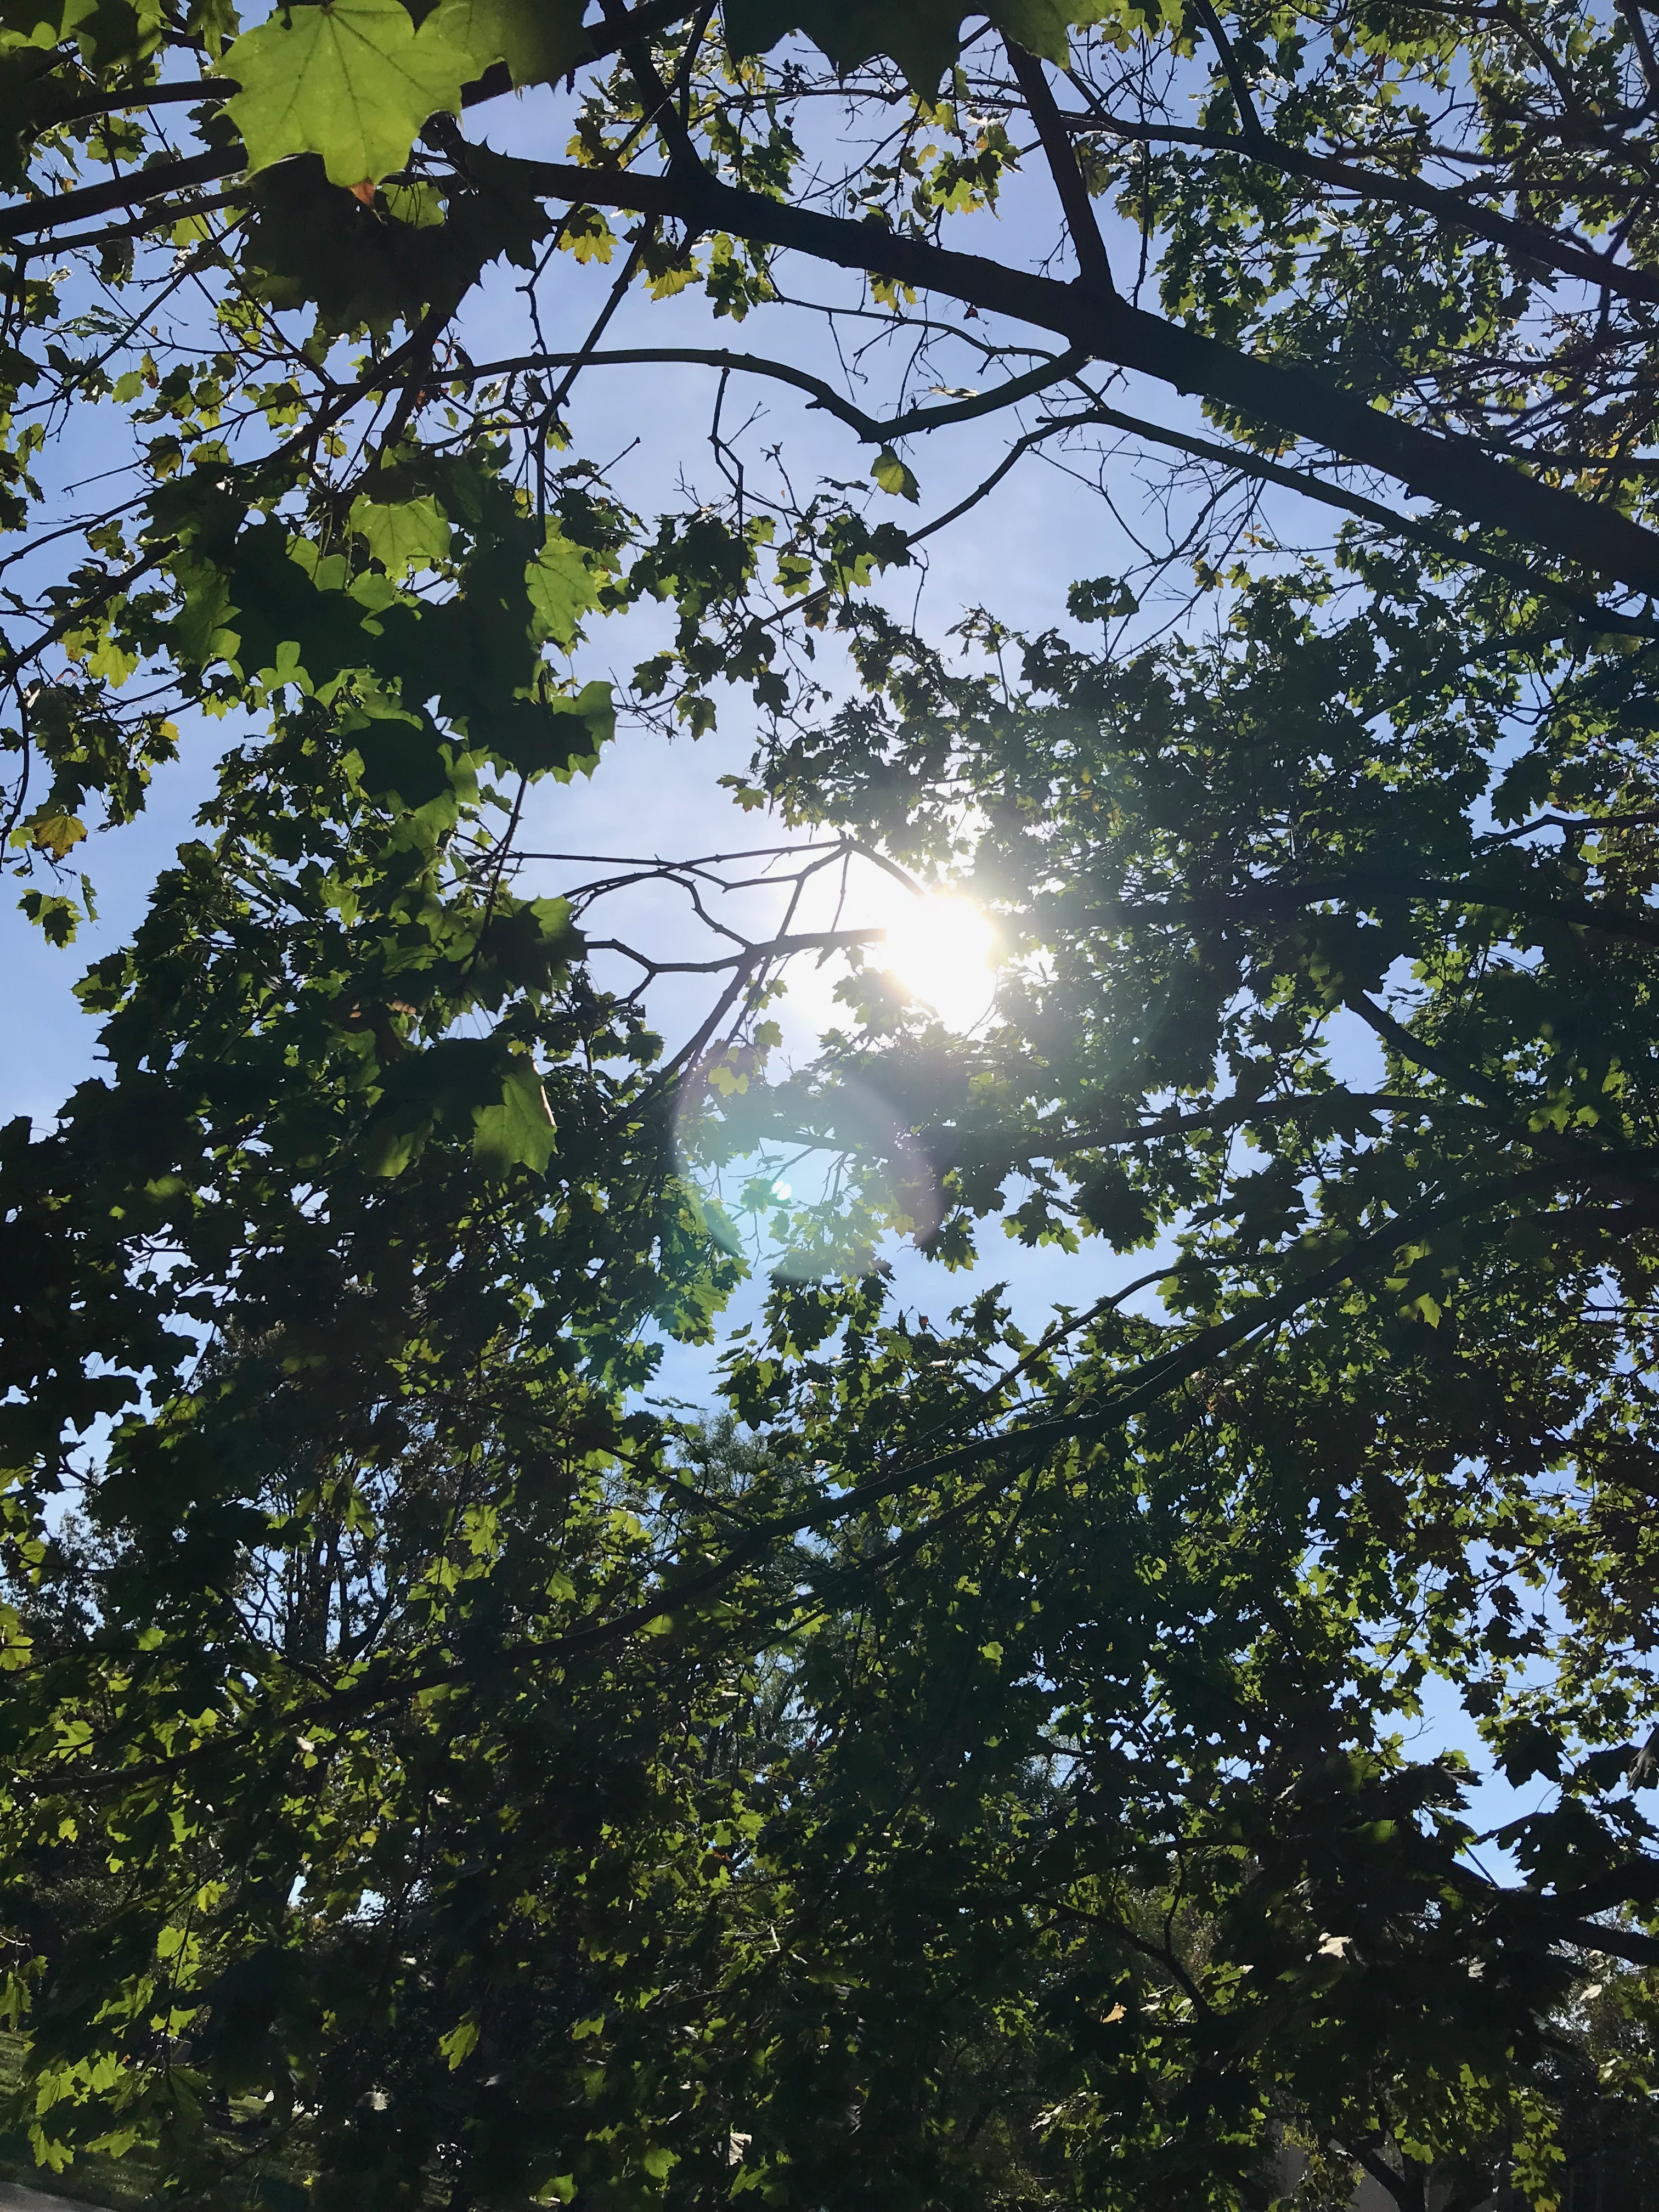flare: (769, 1179, 795, 1202)
